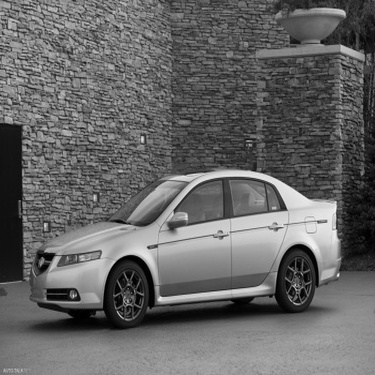car: (21, 158, 353, 336)
